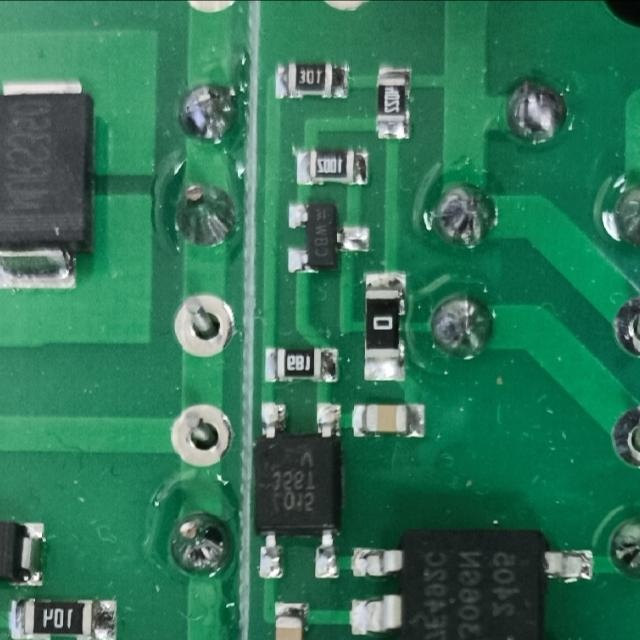chip-capacitor: (349, 400, 426, 440), (270, 598, 310, 640)
chip-resistor: (359, 270, 409, 385), (8, 598, 117, 640), (261, 346, 339, 385), (272, 62, 349, 101), (373, 64, 411, 141), (292, 145, 368, 183)
diode: (0, 76, 96, 291)
ic: (341, 521, 594, 640), (251, 398, 341, 582)
transistor: (283, 200, 369, 276)
